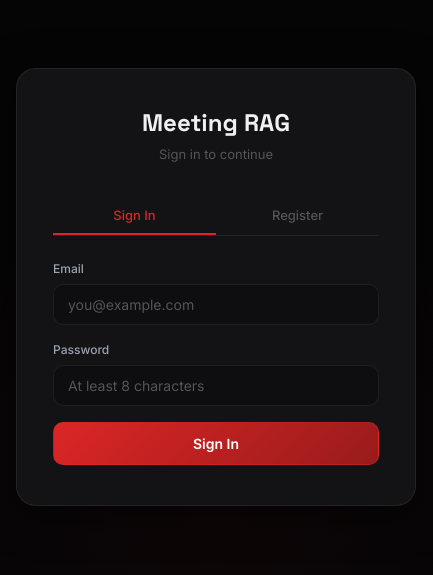
Test: AuthPage › shows confirm password mismatch on register tab
This screenshot has width=433, height=575.
# Switch to register tab
Click the button "Register": (298, 216) x1=216 y1=197 x2=379 y2=235
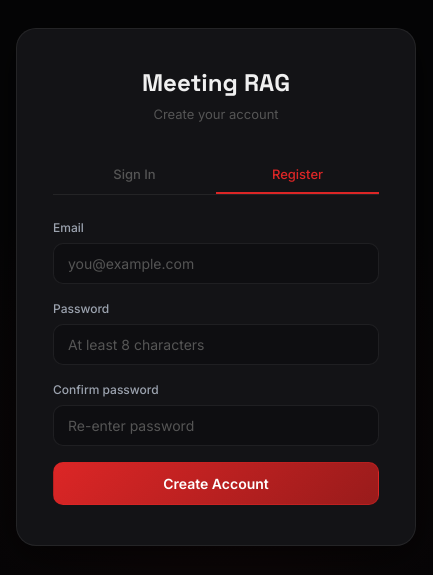
In the field labelled "Email": (216, 264) x1=53 y1=243 x2=379 y2=284, type "test@test.com"
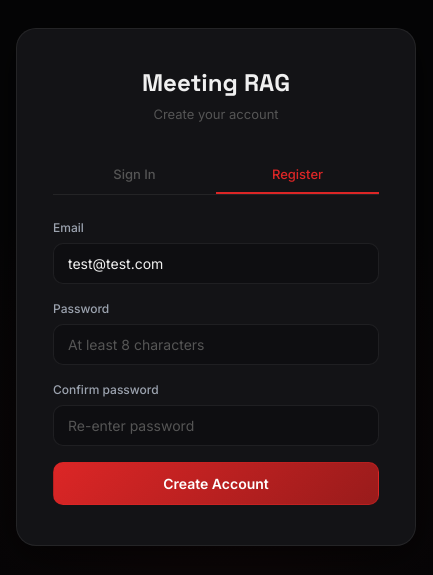
In the password field labelled "Password": (216, 345) x1=53 y1=324 x2=379 y2=365, type "password123"
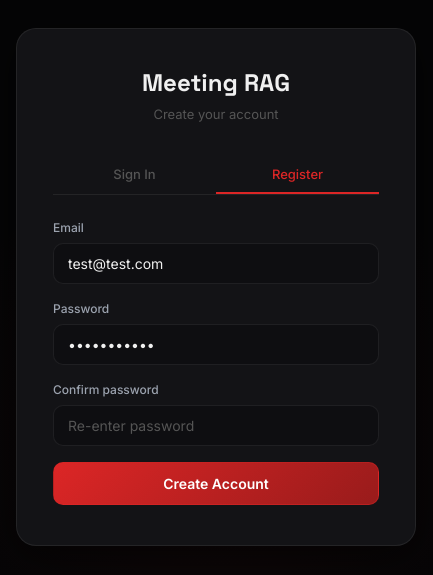
In the password field labelled "Confirm password": (216, 426) x1=53 y1=405 x2=379 y2=446, type "different123"
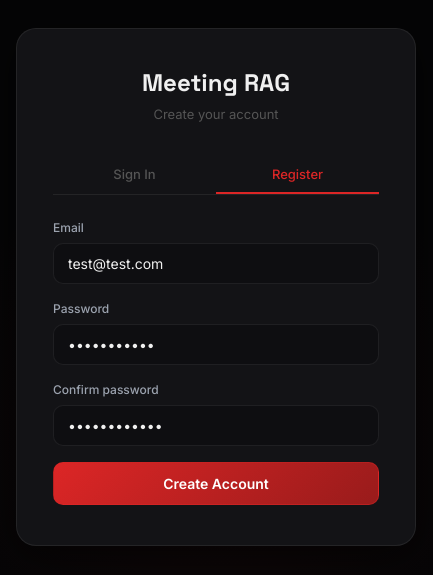
# The submit button text changes to "Create Account" on register tab
Click the button "Create Account": (216, 484) x1=53 y1=462 x2=379 y2=505
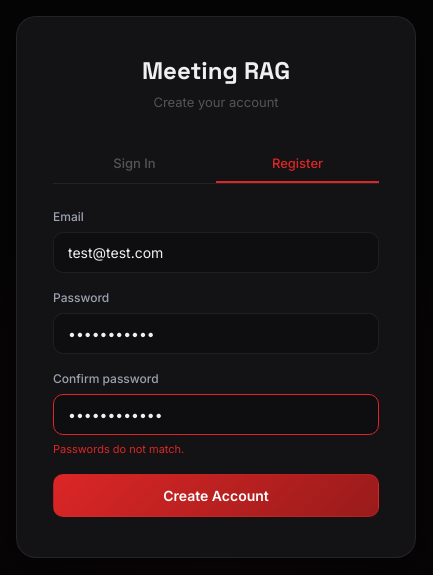
expect the text "Passwords do not match." is shown: met, box x1=53 y1=442 x2=184 y2=456
